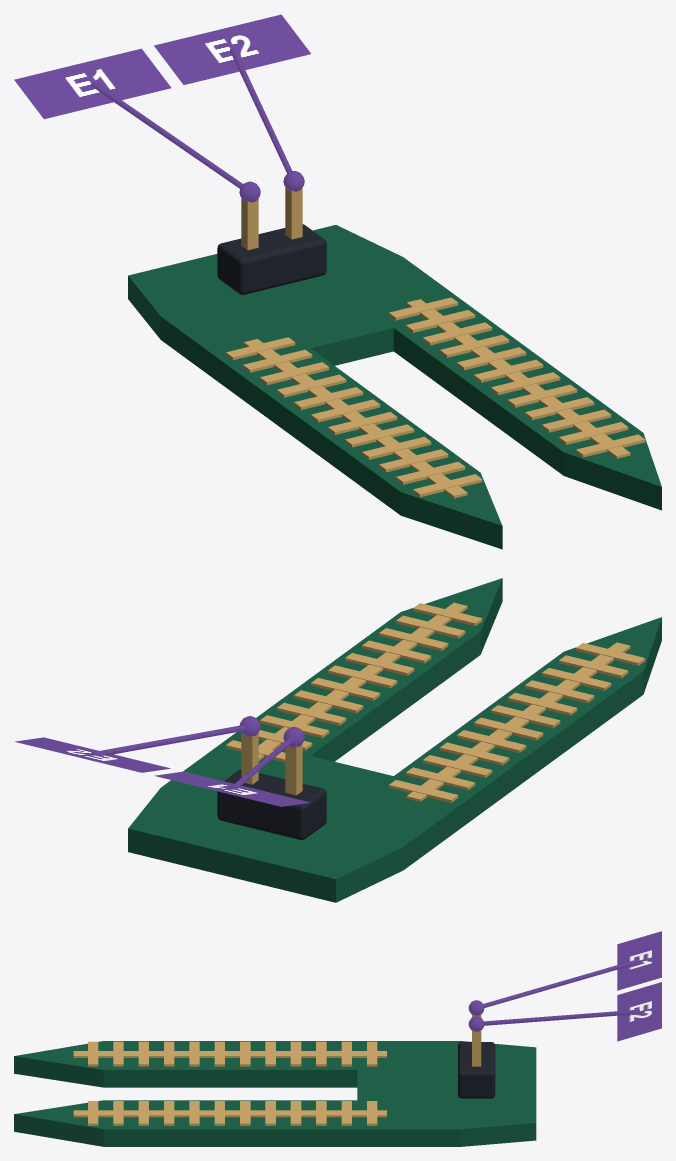
The model's file is soil.glb.
The picture shows the model from 3 angles, top to bottom: view 1: azimuth 30°, elevation 25°; view 2: azimuth 150°, elevation 25°; view 3: azimuth 270°, elevation 25°; orthographic projection. The views are drawn at different scales.
Parts seen in each view (by area): view 1: soil, E2, E1, Terminal labels; view 2: soil, Terminal labels, E1, E2; view 3: soil, E2, E1, Terminal labels.
Part boxes in pixels (left/top/right/bottom): soil: left=128, top=187, right=661, bottom=549; E2: left=154, top=14, right=310, bottom=84; E1: left=14, top=48, right=171, bottom=119; Terminal labels: left=91, top=47, right=304, bottom=202; soil: left=128, top=578, right=661, bottom=902; Terminal labels: left=91, top=716, right=304, bottom=789; E1: left=154, top=771, right=310, bottom=806; E2: left=15, top=737, right=170, bottom=772; soil: left=14, top=1014, right=536, bottom=1146; E2: left=617, top=982, right=661, bottom=1041; E1: left=617, top=931, right=661, bottom=990; Terminal labels: left=468, top=959, right=639, bottom=1031.
Size of the model in its own units: 0.0154 by 0.0107 by 0.0434.
7 materials, 2 textured.
